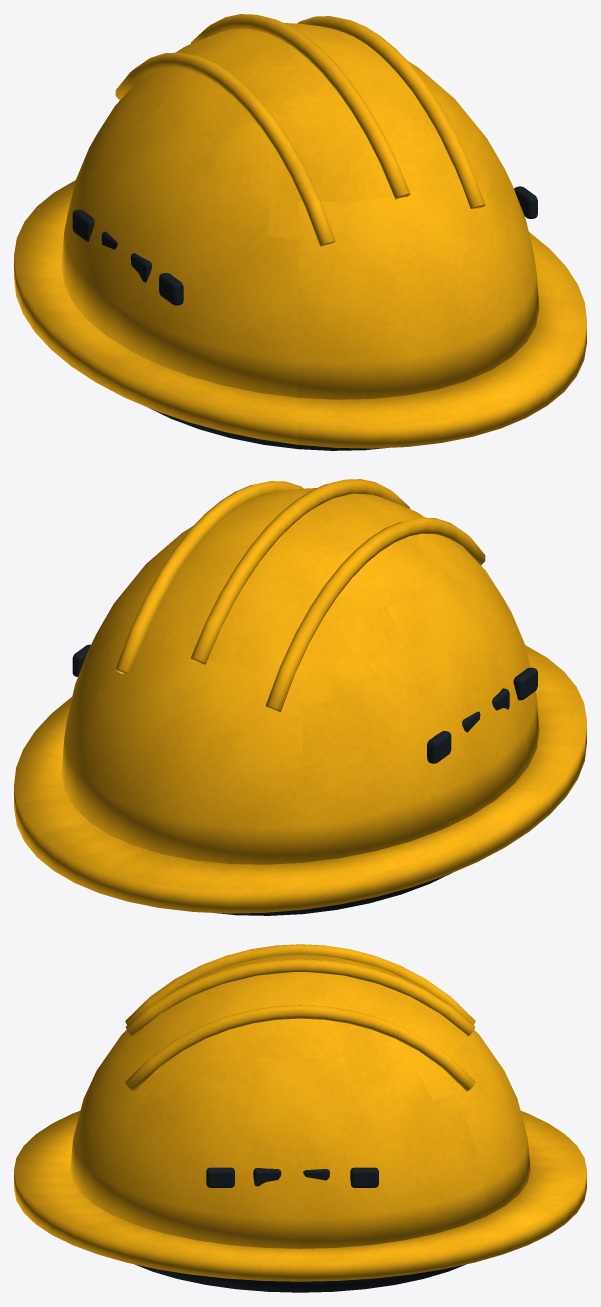
File: CSE_HardHat.fbx
3 renders of one model, top to bottom at view 1: azimuth 30°, elevation 25°; view 2: azimuth 150°, elevation 25°; view 3: azimuth 270°, elevation 25°, orthographic. The views are drawn at different scales.
Parts seen in each view (by area): view 1: CSE_HardHat; view 2: CSE_HardHat; view 3: CSE_HardHat.
Boxes of the visible parts, x1=… form: CSE_HardHat: x1=14, y1=14, x2=586, y2=450; CSE_HardHat: x1=14, y1=479, x2=586, y2=915; CSE_HardHat: x1=14, y1=944, x2=586, y2=1292.
Size of the model in its own units: 33.6 by 22.05 by 43.8.
